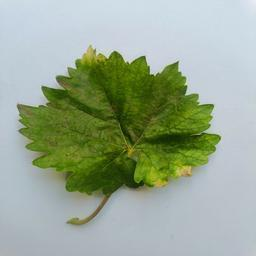Powdery-Mildew: (44, 130, 87, 169), (136, 155, 167, 188), (83, 49, 100, 65), (65, 77, 81, 94), (190, 107, 206, 124), (176, 160, 193, 176)
